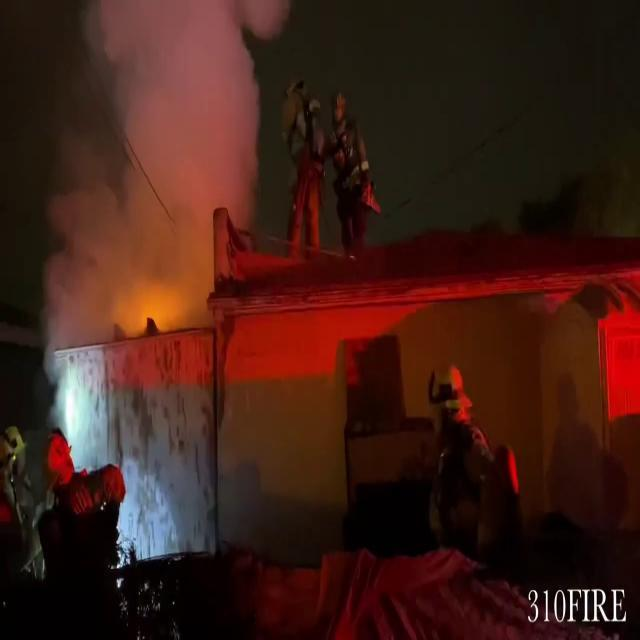Smoke: (28, 1, 274, 320)
